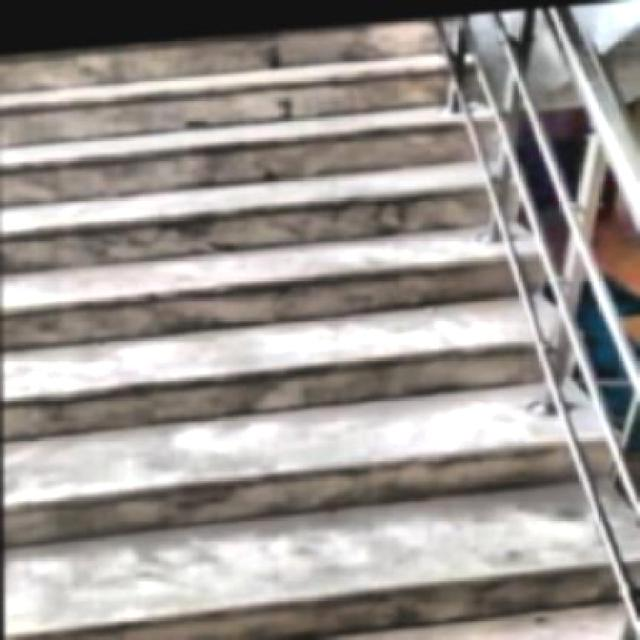stair: (0, 4, 576, 638)
